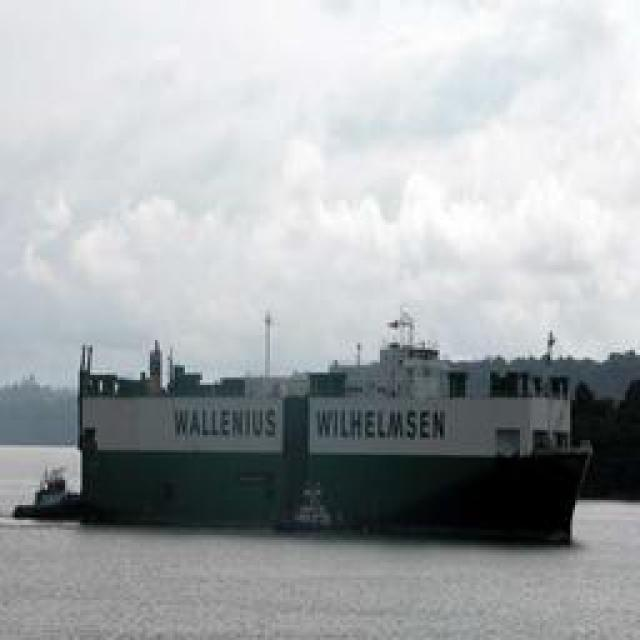Ship: (51, 318, 640, 539)
